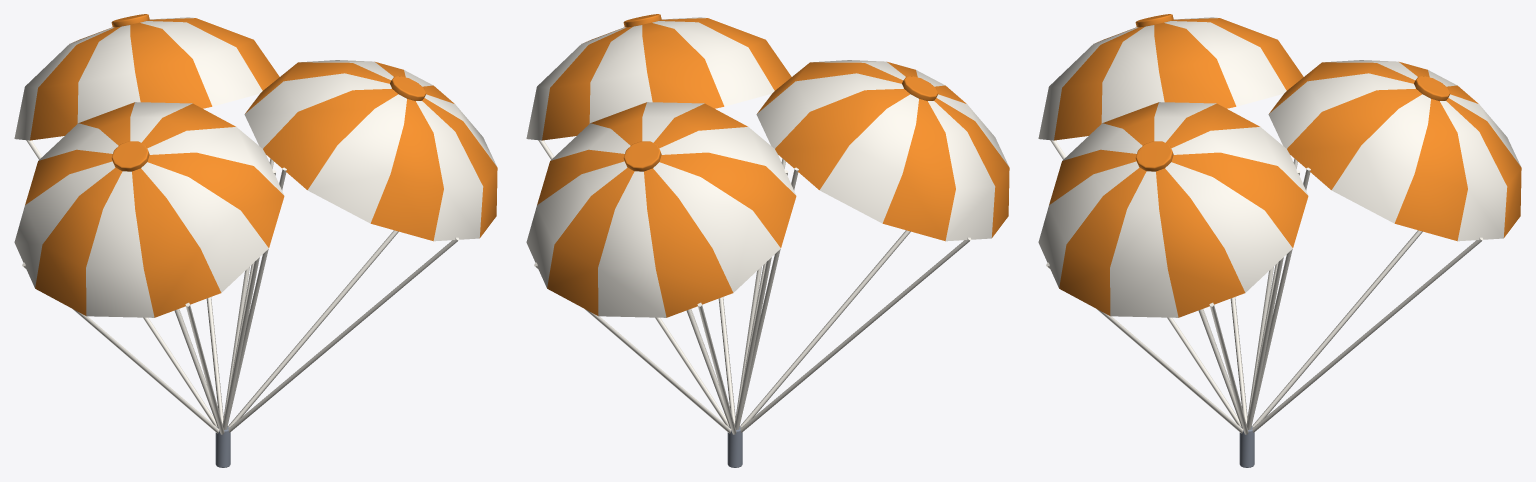
File: Fx_Parachute.glb
3 views of the same model, side by side, from view 1: azimuth 30°, elevation 25°; view 2: azimuth 150°, elevation 25°; view 3: azimuth 270°, elevation 25° (orthographic).
Parts seen in each view (by area): view 1: Fx_Parachute.Canopy_2, Fx_Parachute.Canopy_3, Fx_Parachute.Canopy_1, Fx_Parachute.Lines_3, Fx_Parachute.Lines_2, Fx_Parachute.Lines_1, Fx_Parachute.Vent_2, Fx_Parachute.Vent_3, Fx_Parachute.Riser; view 2: Fx_Parachute.Canopy_1, Fx_Parachute.Canopy_2, Fx_Parachute.Canopy_3, Fx_Parachute.Lines_2, Fx_Parachute.Lines_1, Fx_Parachute.Lines_3, Fx_Parachute.Vent_1, Fx_Parachute.Vent_2, Fx_Parachute.Riser; view 3: Fx_Parachute.Canopy_3, Fx_Parachute.Canopy_1, Fx_Parachute.Canopy_2, Fx_Parachute.Lines_1, Fx_Parachute.Lines_3, Fx_Parachute.Lines_2, Fx_Parachute.Vent_3, Fx_Parachute.Vent_1, Fx_Parachute.Riser.
Part boxes in pixels (x1,y1,x2,y2): Fx_Parachute.Canopy_2: (14, 102, 284, 317); Fx_Parachute.Canopy_3: (244, 60, 497, 241); Fx_Parachute.Canopy_1: (14, 17, 279, 140); Fx_Parachute.Lines_3: (225, 158, 459, 432); Fx_Parachute.Lines_2: (22, 170, 276, 434); Fx_Parachute.Lines_1: (26, 140, 249, 426); Fx_Parachute.Vent_2: (111, 141, 149, 171); Fx_Parachute.Vent_3: (390, 76, 426, 100); Fx_Parachute.Riser: (215, 426, 230, 467); Fx_Parachute.Canopy_1: (526, 102, 796, 317); Fx_Parachute.Canopy_2: (756, 60, 1009, 241); Fx_Parachute.Canopy_3: (526, 17, 791, 140); Fx_Parachute.Lines_2: (737, 158, 971, 432); Fx_Parachute.Lines_1: (534, 170, 788, 434); Fx_Parachute.Lines_3: (538, 140, 761, 426); Fx_Parachute.Vent_1: (623, 141, 661, 171); Fx_Parachute.Vent_2: (902, 76, 938, 100); Fx_Parachute.Riser: (727, 426, 742, 467); Fx_Parachute.Canopy_3: (1038, 102, 1308, 317); Fx_Parachute.Canopy_1: (1268, 60, 1521, 241); Fx_Parachute.Canopy_2: (1038, 17, 1303, 140); Fx_Parachute.Lines_1: (1249, 158, 1483, 432); Fx_Parachute.Lines_3: (1046, 170, 1300, 434); Fx_Parachute.Lines_2: (1050, 140, 1273, 426); Fx_Parachute.Vent_3: (1135, 141, 1173, 171); Fx_Parachute.Vent_1: (1414, 76, 1450, 100); Fx_Parachute.Riser: (1239, 426, 1254, 467).
Size of the model in its own units: 14.88 by 12.53 by 14.
Materials: 1 (1 with a texture image).
